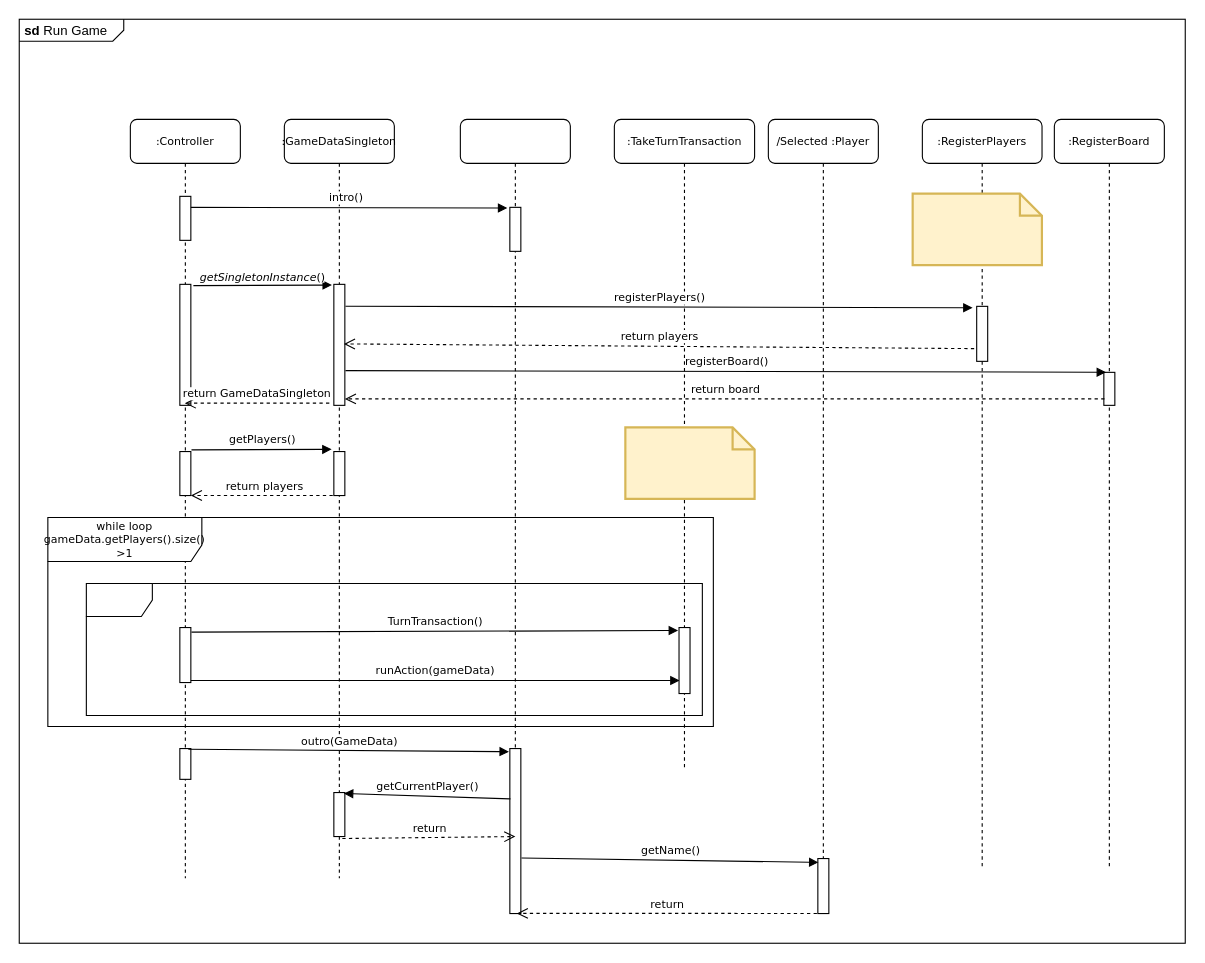
Image size: 1205x963. Some labels were removed from this diagram. Here are the shapes that lost their labels. From the top down, the box of each, then its label:
(911, 192, 1042, 266): RegisterPlayers is described in its own sequence diagram
(624, 426, 755, 499): TakeTurnTransaction is described in its on sequence diagram
(459, 118, 570, 878): :ASCIIArt
(85, 582, 702, 716): loop for(Player p: gameData.getPlayers()
